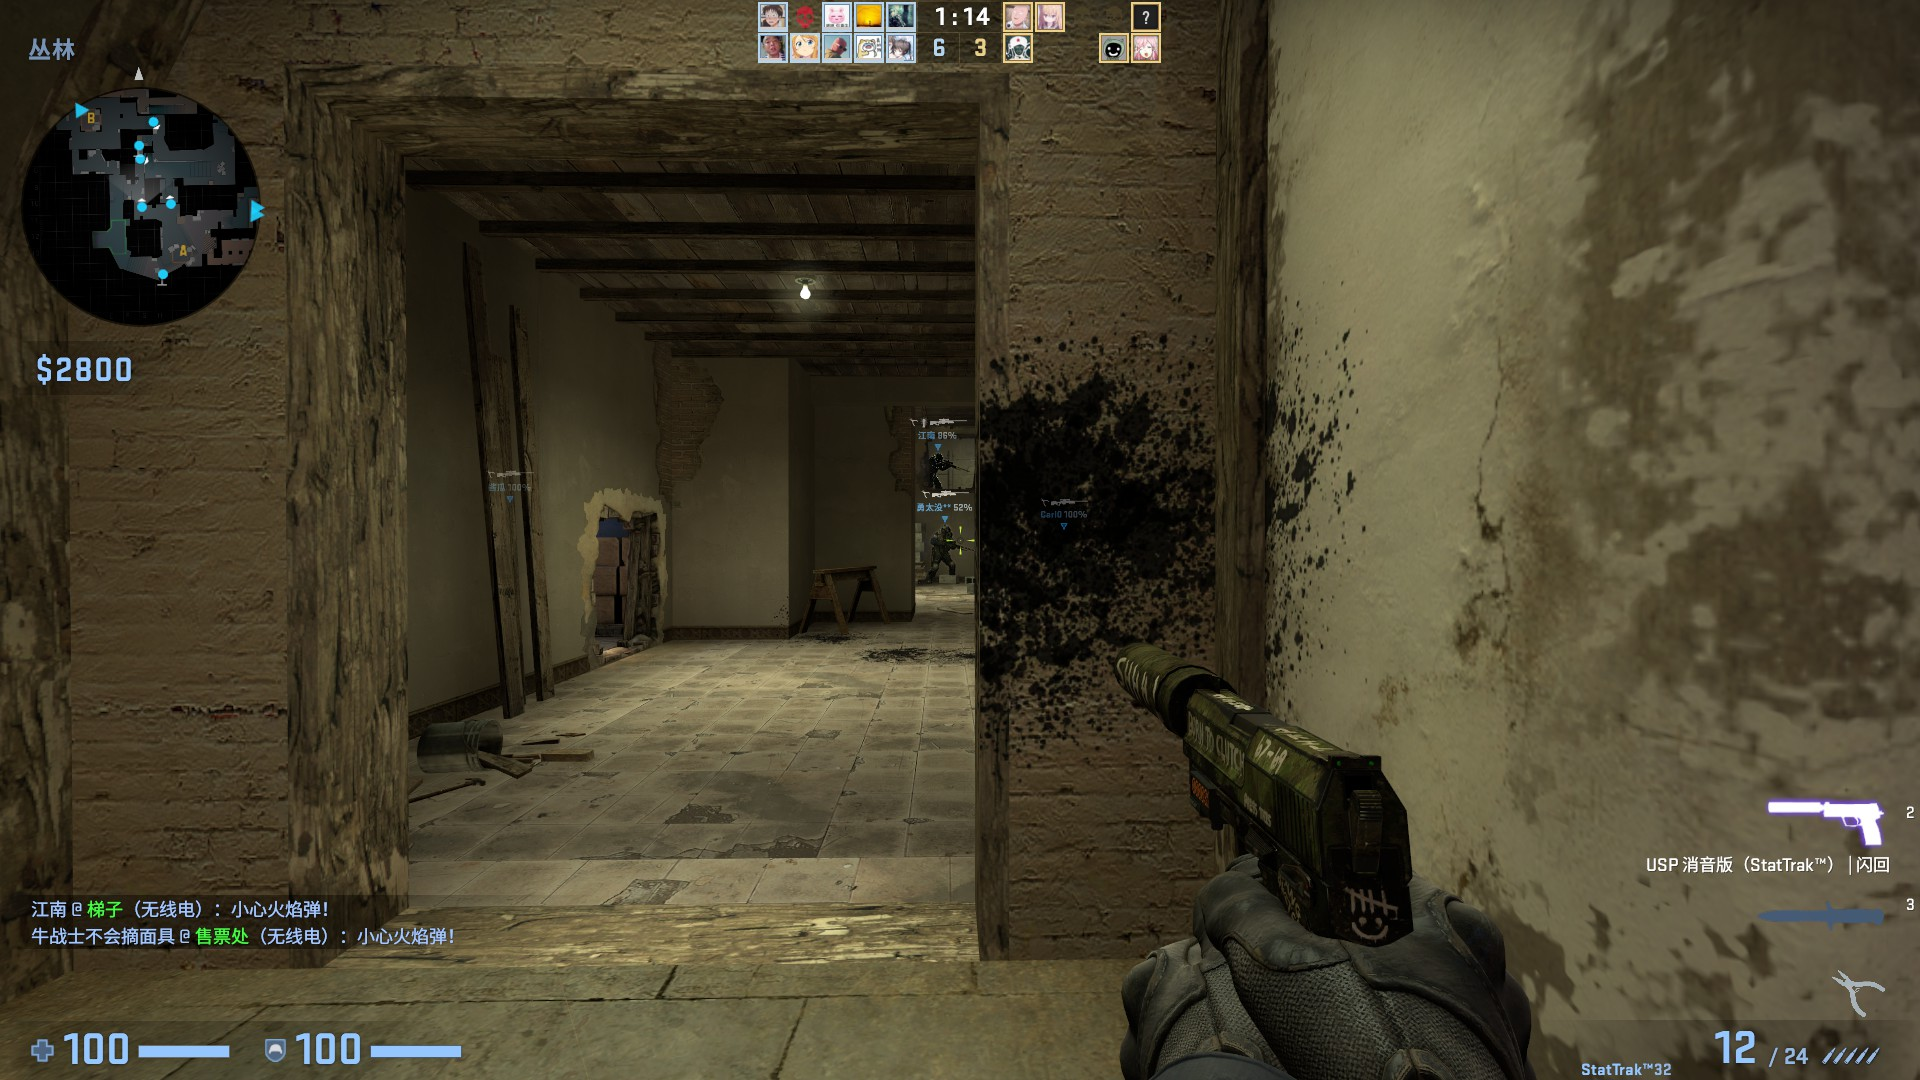head: (939, 525, 953, 538), (935, 452, 944, 462)
